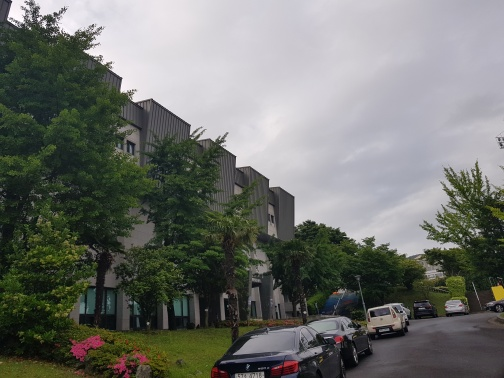Gym: (127, 89, 308, 319), (147, 100, 294, 240)
